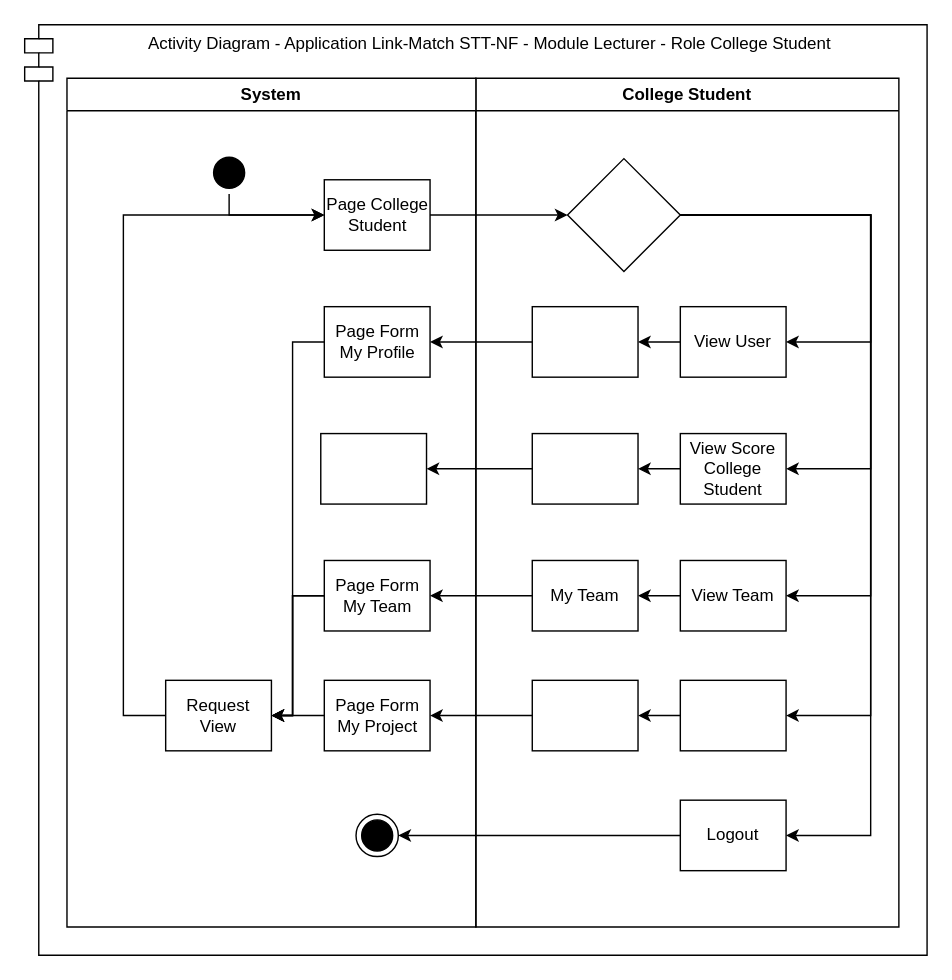
Image size: 952x980. Some labels were removed from this diagram. The shapes that lost their labels are listed below. From the top down, each one's centre as x and y in pixels, then its label:
At pixel 623 214: "Choice Menu".
At pixel 584 341: "My Profile".
At pixel 373 468: "Page Form My Score".
At pixel 584 468: "My Score".
At pixel 584 715: "My Project".
At pixel 732 715: "Melihat Project".
